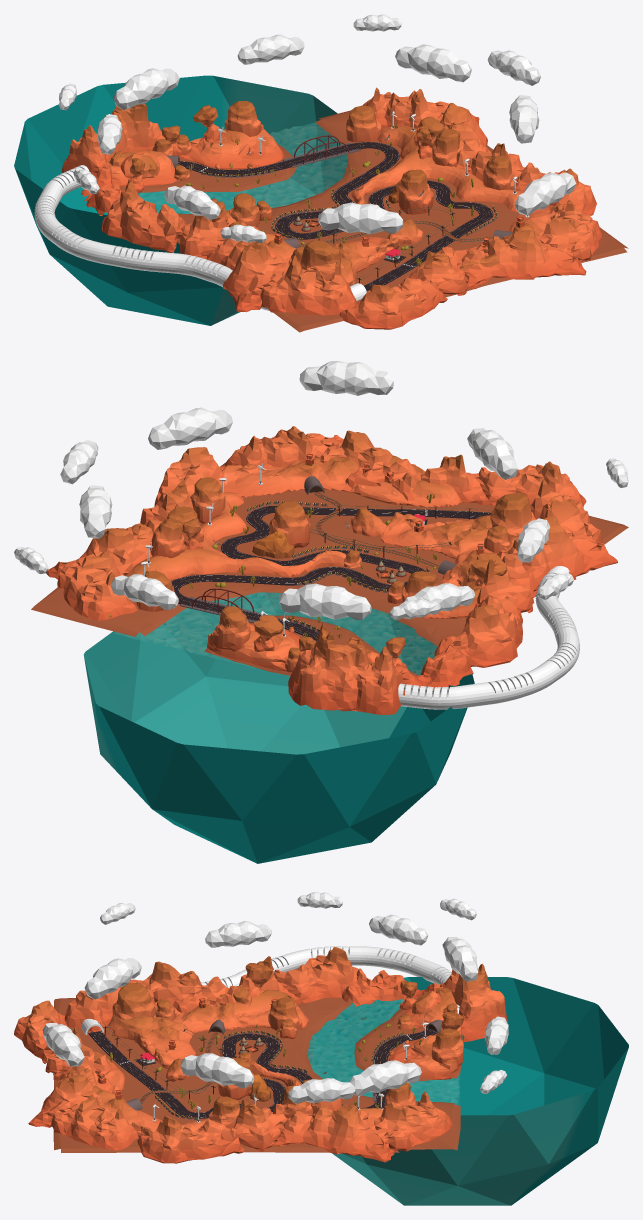
The model's file is track-draco.glb.
3 views of the same model, one above another, from view 1: azimuth 30°, elevation 25°; view 2: azimuth 150°, elevation 25°; view 3: azimuth 270°, elevation 25° (orthographic). The views are drawn at different scales.
Parts seen in each view (by area): view 1: mountains, track, terrain, tube, water, cloud.012, cloud.006, cloud.011, cloud.007, cloud.001, cloud.002, cloud.009 (+4 smaller); view 2: track, mountains, terrain, water, tube, cloud.007, cloud.011, cloud, cloud.012, cloud.001, cloud.006, cloud.008 (+3 smaller); view 3: mountains, track, terrain, water, tube, cloud, cloud.006, cloud.012, cloud.009, cloud.002, cloud.007, cloud.008 (+5 smaller).
Boxes of the visible parts, bbox=[...] form: mountains: bbox=[61, 87, 601, 329]; track: bbox=[14, 75, 529, 325]; terrain: bbox=[120, 110, 628, 332]; tube: bbox=[34, 165, 366, 310]; water: bbox=[80, 122, 347, 213]; cloud.012: bbox=[318, 202, 403, 234]; cloud.006: bbox=[395, 44, 471, 82]; cloud.011: bbox=[113, 68, 179, 109]; cloud.007: bbox=[514, 172, 576, 215]; cloud.001: bbox=[237, 34, 304, 64]; cloud.002: bbox=[164, 185, 220, 219]; cloud.009: bbox=[487, 50, 540, 85]; track: bbox=[83, 453, 492, 863]; mountains: bbox=[46, 426, 617, 714]; terrain: bbox=[31, 438, 628, 676]; water: bbox=[114, 592, 437, 676]; tube: bbox=[398, 566, 579, 709]; cloud.007: bbox=[299, 361, 393, 395]; cloud.011: bbox=[279, 583, 371, 619]; cloud: bbox=[148, 407, 232, 449]; cloud.012: bbox=[467, 428, 517, 479]; cloud.001: bbox=[110, 574, 178, 609]; cloud.006: bbox=[79, 485, 112, 538]; cloud.008: bbox=[404, 583, 475, 614]; mountains: bbox=[14, 946, 507, 1163]; track: bbox=[88, 977, 628, 1205]; terrain: bbox=[53, 997, 462, 1152]; water: bbox=[307, 999, 459, 1105]; tube: bbox=[81, 946, 459, 1034]; cloud: bbox=[180, 1053, 254, 1088]; cloud.006: bbox=[349, 1060, 421, 1095]; cloud.012: bbox=[84, 958, 141, 999]; cloud.009: bbox=[288, 1078, 355, 1103]; cloud.002: bbox=[205, 921, 271, 947]; cloud.007: bbox=[42, 1023, 84, 1066]; cloud.008: bbox=[369, 914, 428, 945].
Size of the model in its own units: 655 by 344 by 796.
Materials: 13 (3 with a texture image).
